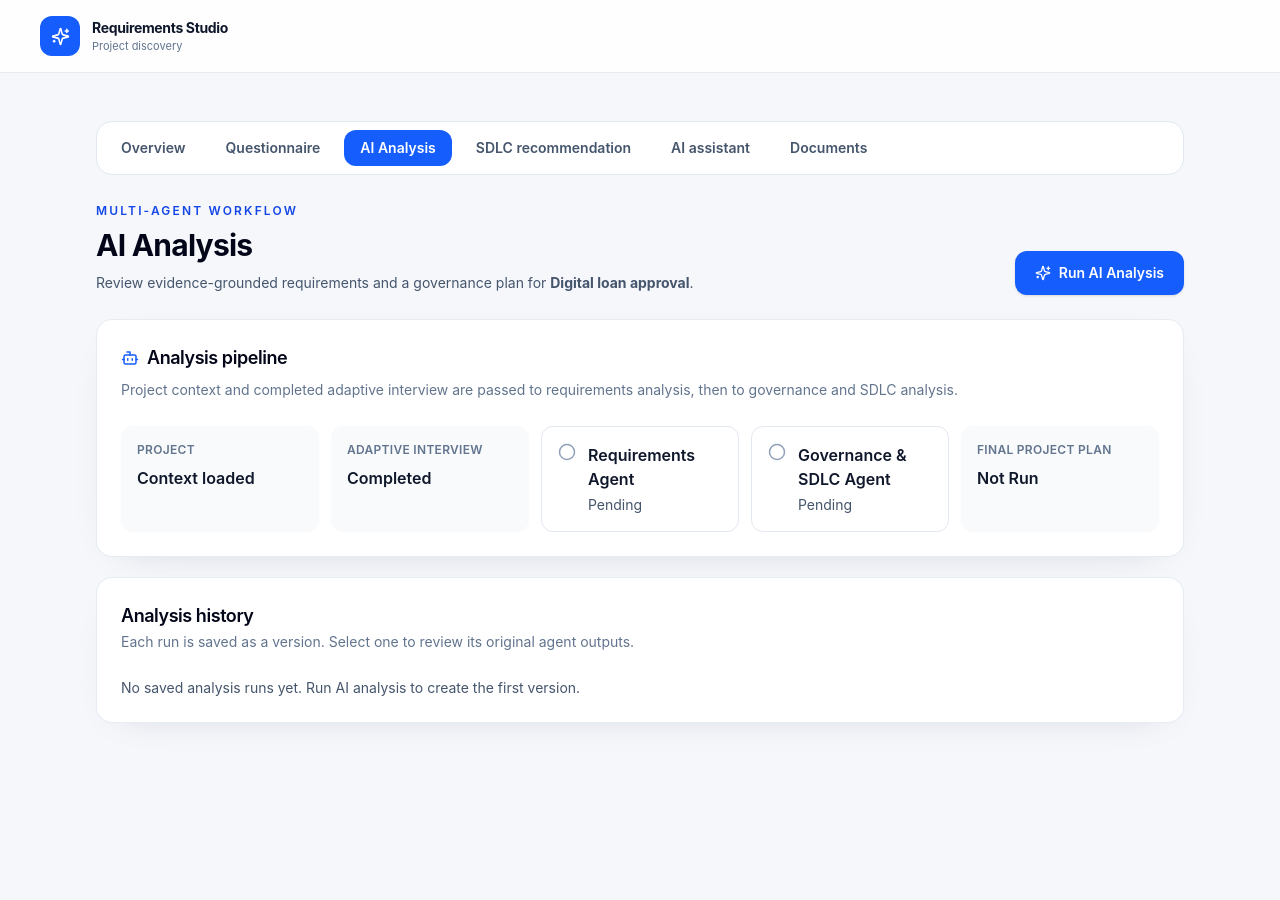
Test case: multi-agent analysis page › uses backend agent statuses rather than assuming success from HTTP 200
The image size is (1280, 900).
What coordinates should you click on to do the following:
click the button "Run AI Analysis"
I would click on:
 (1099, 273)
Its box is [1015,251,1184,295].
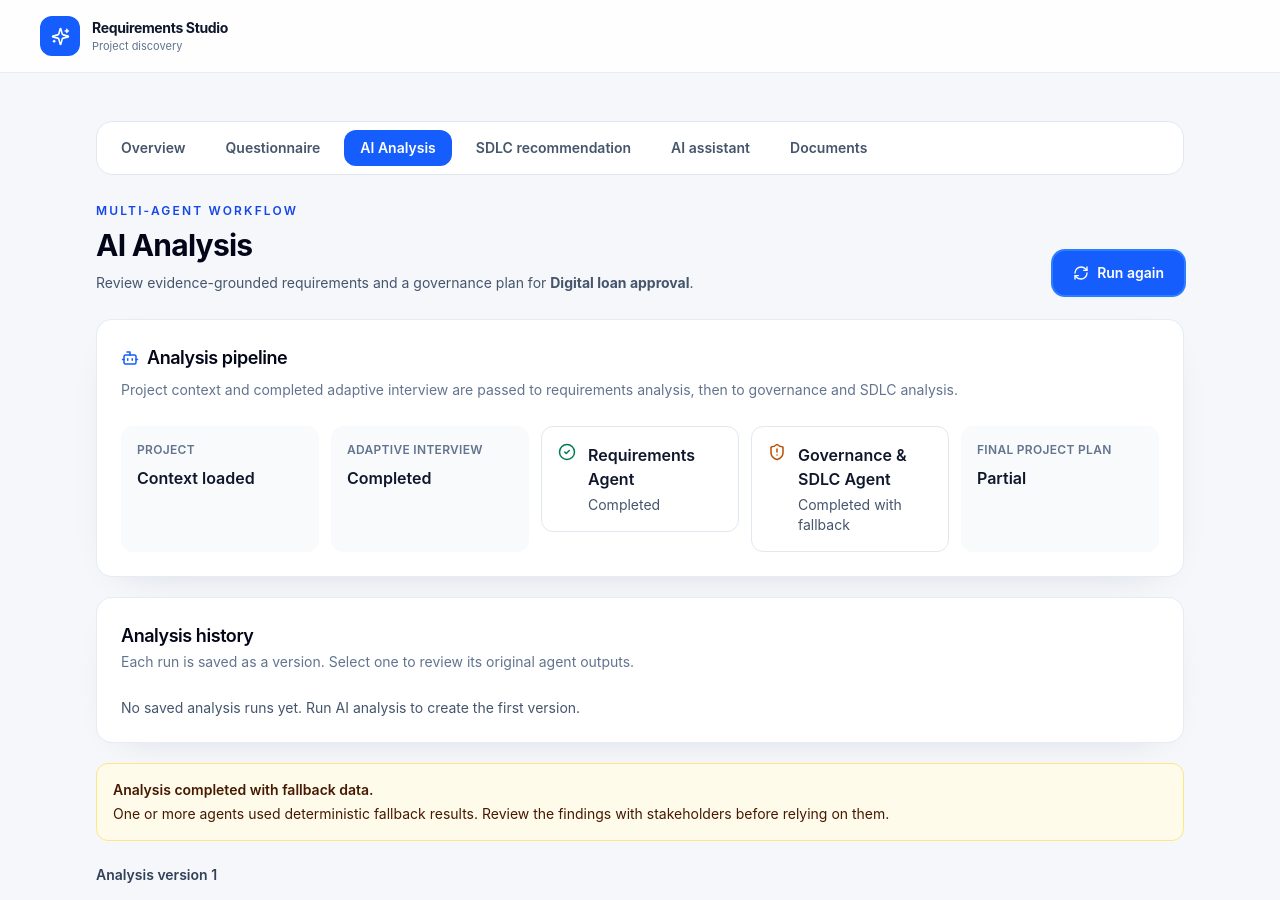
Now the text "Analysis completed with fallback data." is shown, box [113,781,374,798]
Now the text "Completed with fallback" is shown, box [798,496,902,533]
Now the text "One or more agents used deterministic fallback results" is shown, box [113,805,889,822]
